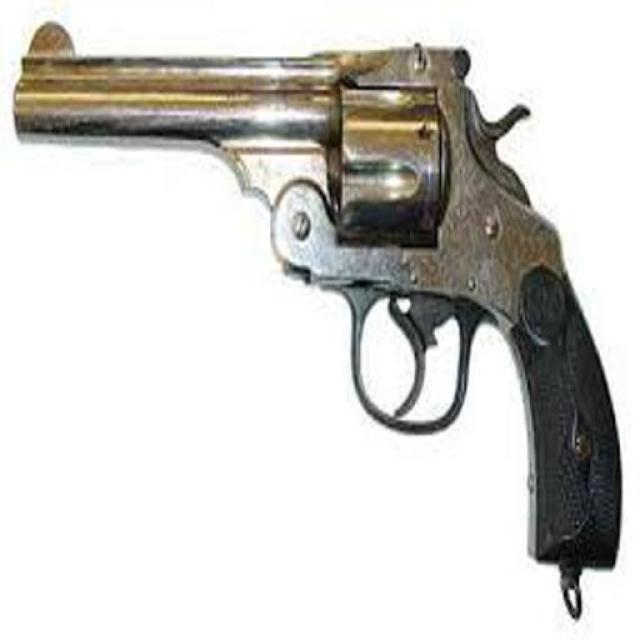pistol: (15, 21, 626, 575)
